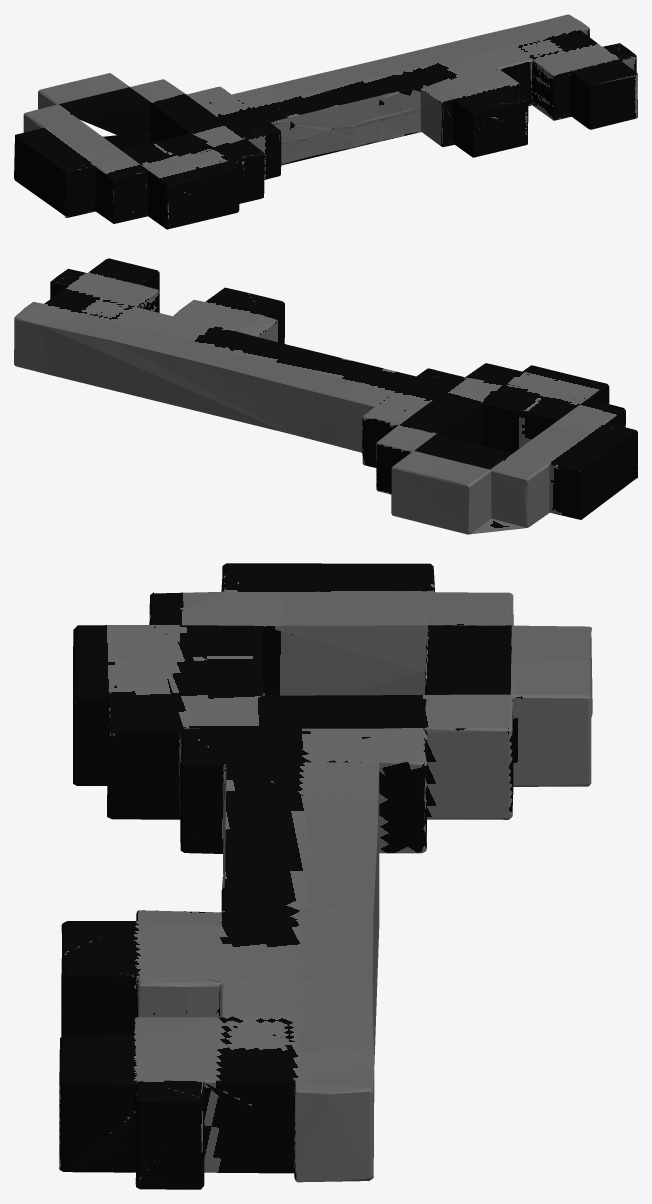
3 renders of one model, top to bottom at view 1: azimuth 30°, elevation 25°; view 2: azimuth 150°, elevation 25°; view 3: azimuth 270°, elevation 25°, orthographic. The views are drawn at different scales.
Parts seen in each view (by area): view 1: OBJ10a; view 2: OBJ10a; view 3: OBJ10a.
Part boxes in pixels (left/top/right/bottom): OBJ10a: left=14, top=14, right=637, bottom=229; OBJ10a: left=14, top=258, right=637, bottom=534; OBJ10a: left=59, top=563, right=592, bottom=1189.
Size of the model in its own units: 0.3243 by 0.026 by 0.1362.
1 material, 1 textured.
